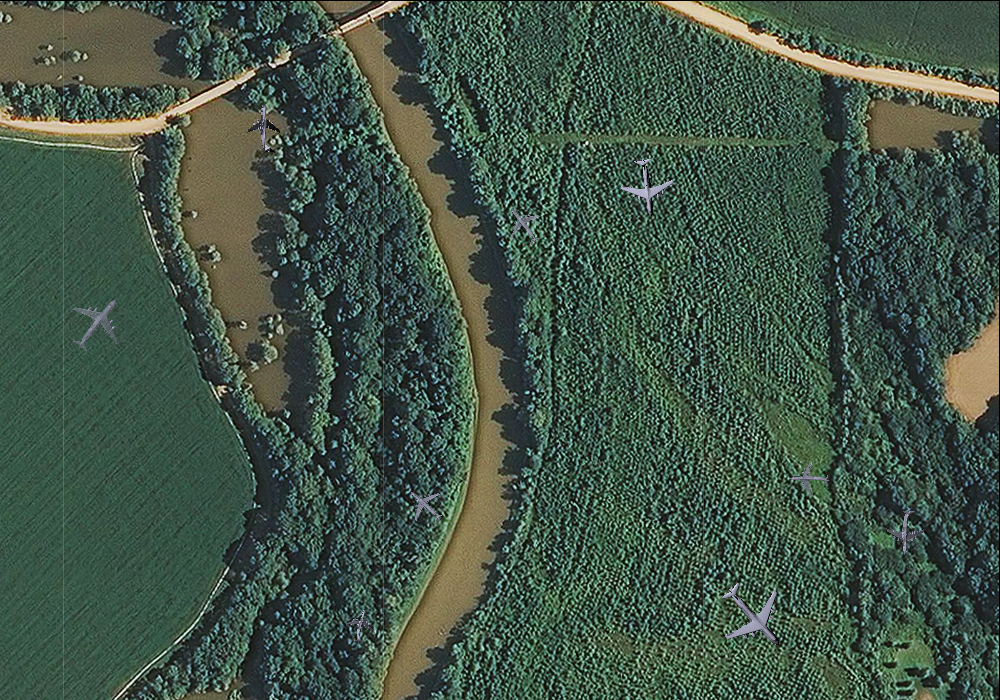plane: (702, 565, 805, 668), (55, 281, 138, 365), (616, 154, 678, 219), (495, 197, 551, 254), (398, 478, 452, 533), (244, 103, 286, 153), (885, 509, 928, 555), (341, 605, 381, 647), (790, 460, 829, 498)
